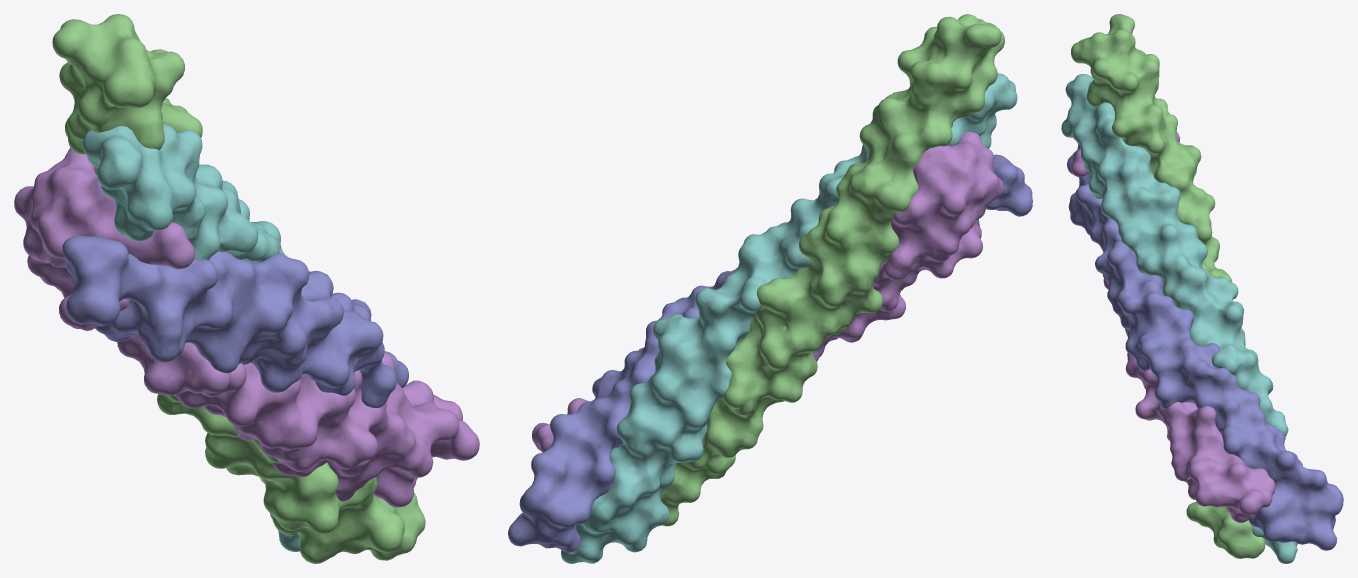
Rendered from snare-1sfc.glb.
3 renders of one model, left to right at view 1: azimuth 30°, elevation 25°; view 2: azimuth 150°, elevation 25°; view 3: azimuth 270°, elevation 25°, orthographic. The views are drawn at different scales.
Parts seen in each view (by area): view 1: snare-1sfc_mesh; view 2: snare-1sfc_mesh; view 3: snare-1sfc_mesh.
Part boxes in pixels (x1,y1,x2,y2): snare-1sfc_mesh: [14, 14, 479, 563]; snare-1sfc_mesh: [508, 14, 1032, 563]; snare-1sfc_mesh: [1061, 14, 1343, 563].
Bounding box in the file's own units: 0.7873 × 1.02 × 0.6122.
